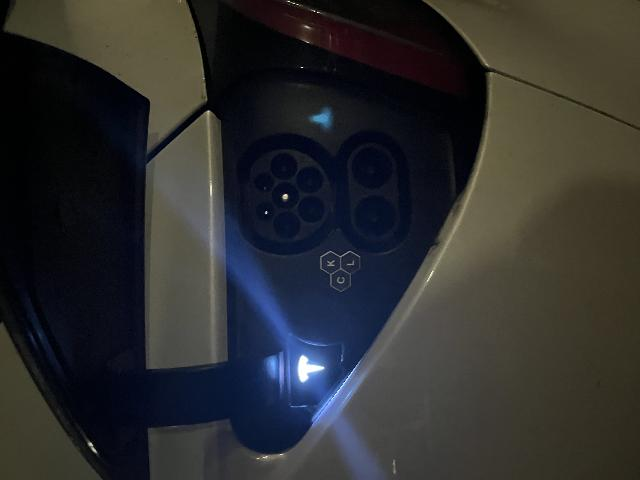inlet: (236, 250, 331, 331)
inlet-above-left: (259, 255, 278, 275)
inlet-above-right: (288, 254, 308, 273)
inlet-below-left: (258, 297, 284, 325)
inlet-below-right: (286, 296, 314, 324)
inlet-circle: (271, 271, 298, 299)
inlet-circle-left: (241, 273, 269, 301)
inlet-circle-right: (300, 270, 327, 298)
inlet-minus: (291, 352, 333, 393)
inlet-plus: (242, 356, 285, 396)
